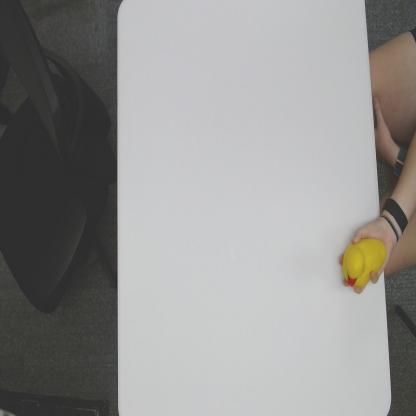Duck: (341, 240, 386, 286)
